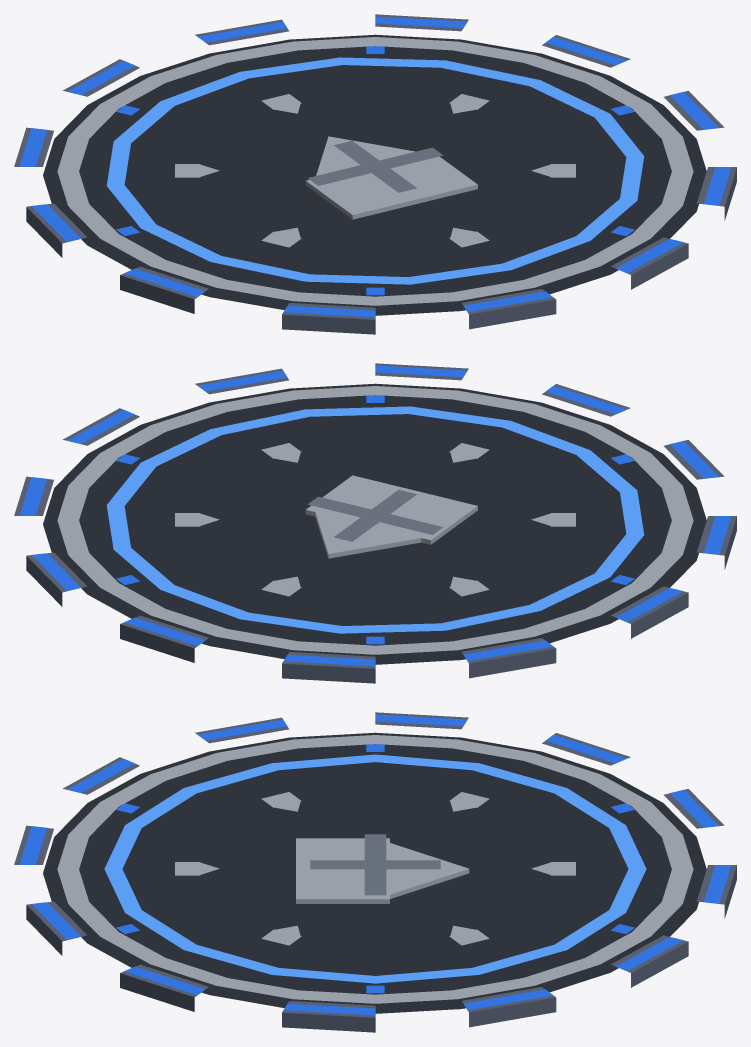
File: shield_knight_super_rare_area.glb
3 renders of one model, top to bottom at view 1: azimuth 30°, elevation 25°; view 2: azimuth 150°, elevation 25°; view 3: azimuth 270°, elevation 25°, orthographic.
Visible parts, largest first — view 1: shield_knight_super_rare_area; view 2: shield_knight_super_rare_area; view 3: shield_knight_super_rare_area.
Part boxes in pixels (x1,y1,x2,y2): shield_knight_super_rare_area: (14,14,736,334); shield_knight_super_rare_area: (14,363,736,683); shield_knight_super_rare_area: (14,712,736,1032).
Size of the model in its own units: 2 by 0.046 by 2.
Materials: 2 (2 with a texture image).
